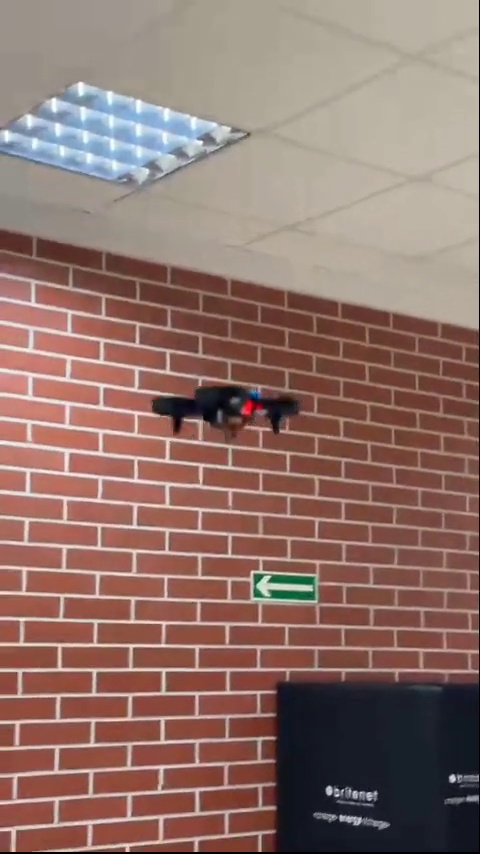drone: (149, 379, 304, 439)
